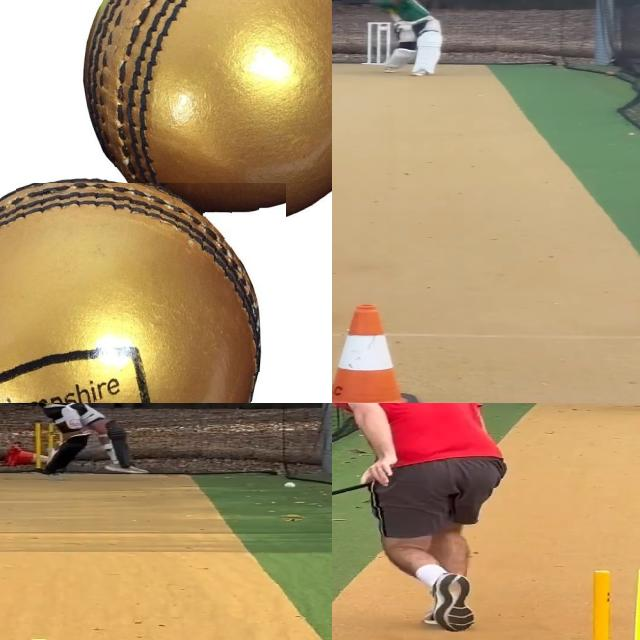Cricket ball: (0, 182, 286, 403), (285, 479, 299, 488), (377, 25, 391, 33)
Stumps: (570, 566, 640, 640), (366, 20, 393, 66)
